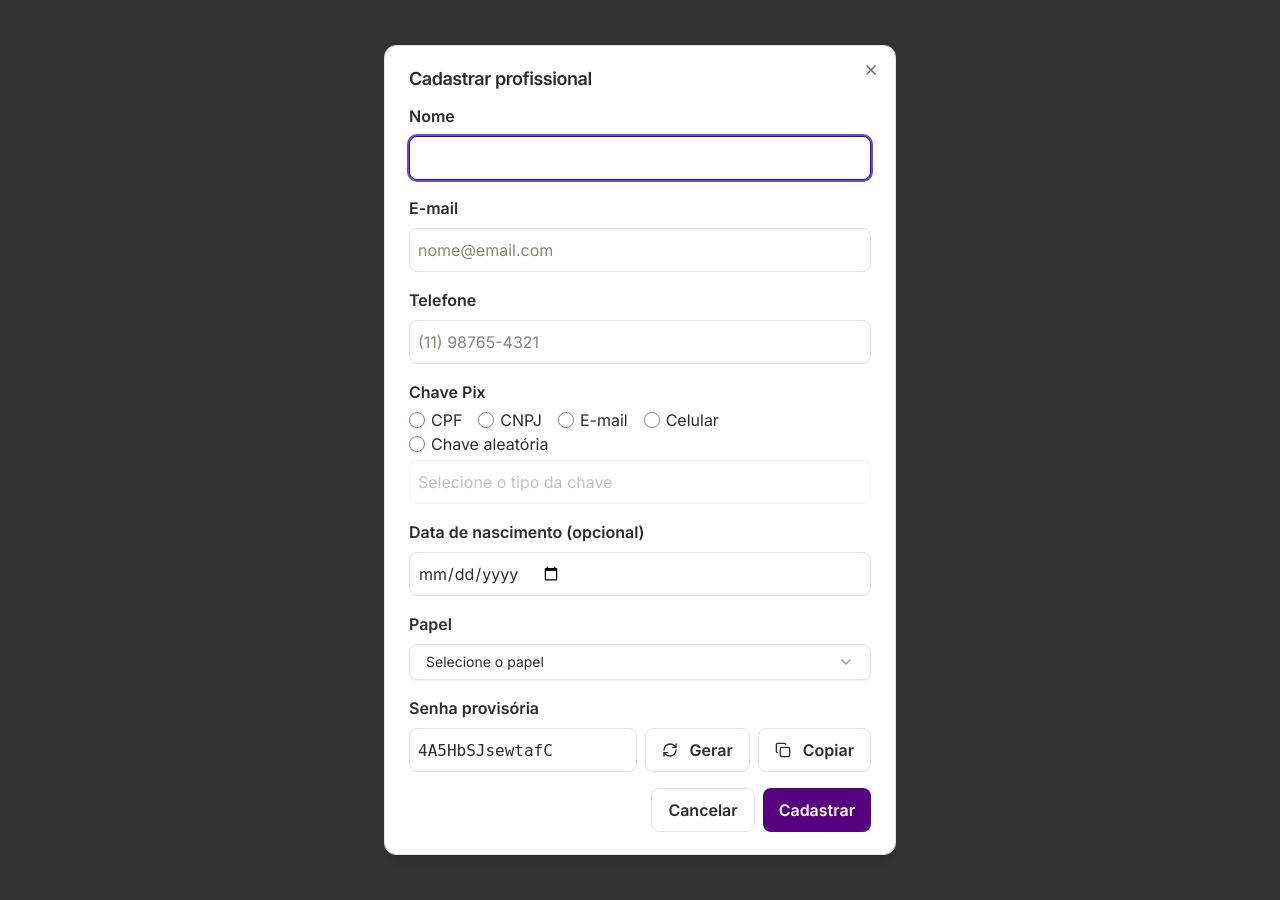
Test: CreateMemberDialog › PROFESSIONAL hides the also-attends checkbox and shows categories; ATTENDANT shows checkbox first
This screenshot has width=1280, height=900.
Click the dropdown labelled "papel" at (485, 662), box x1=409 y1=644 x2=871 y2=680
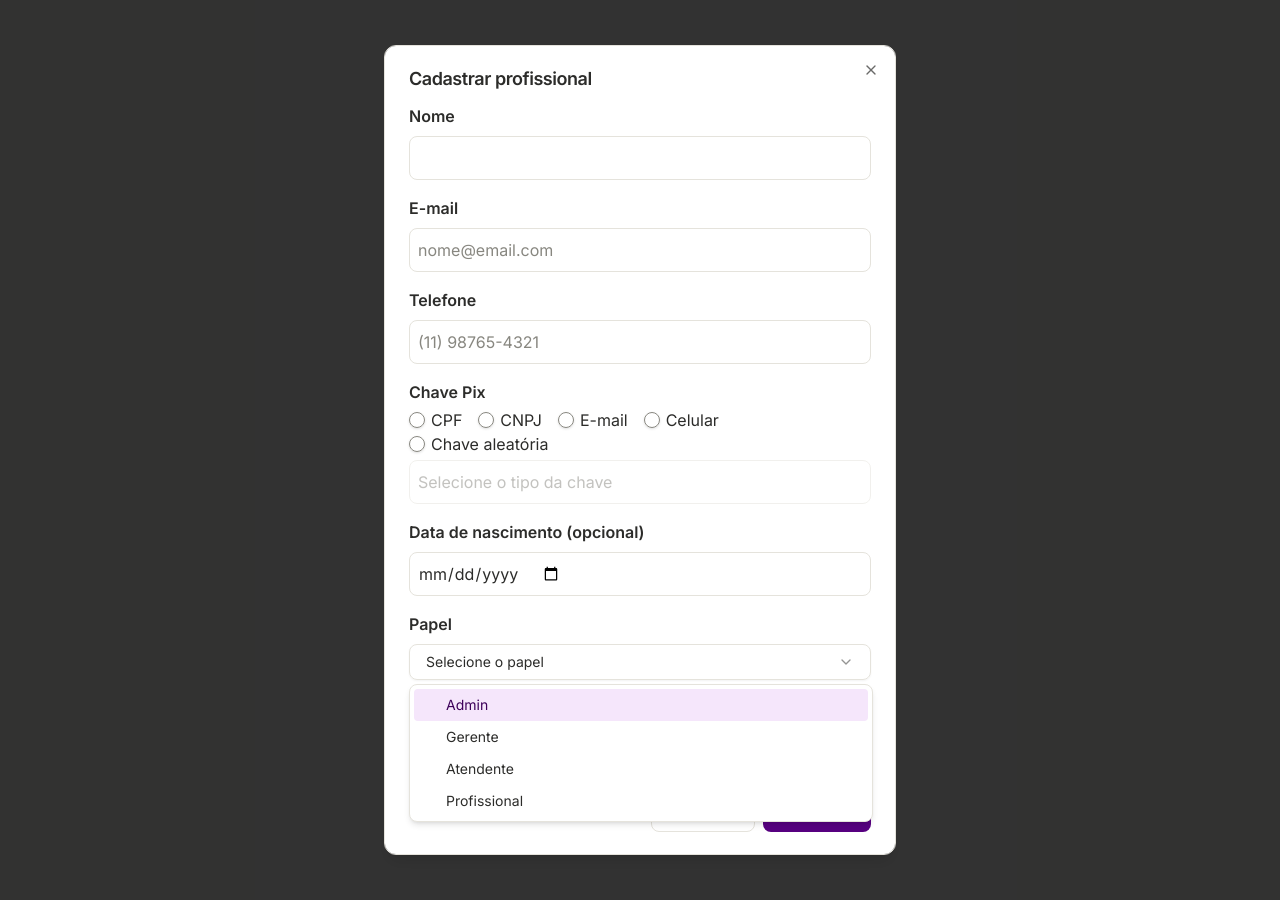
Click the option "Atendente" at (480, 768), box x1=446 y1=760 x2=514 y2=777
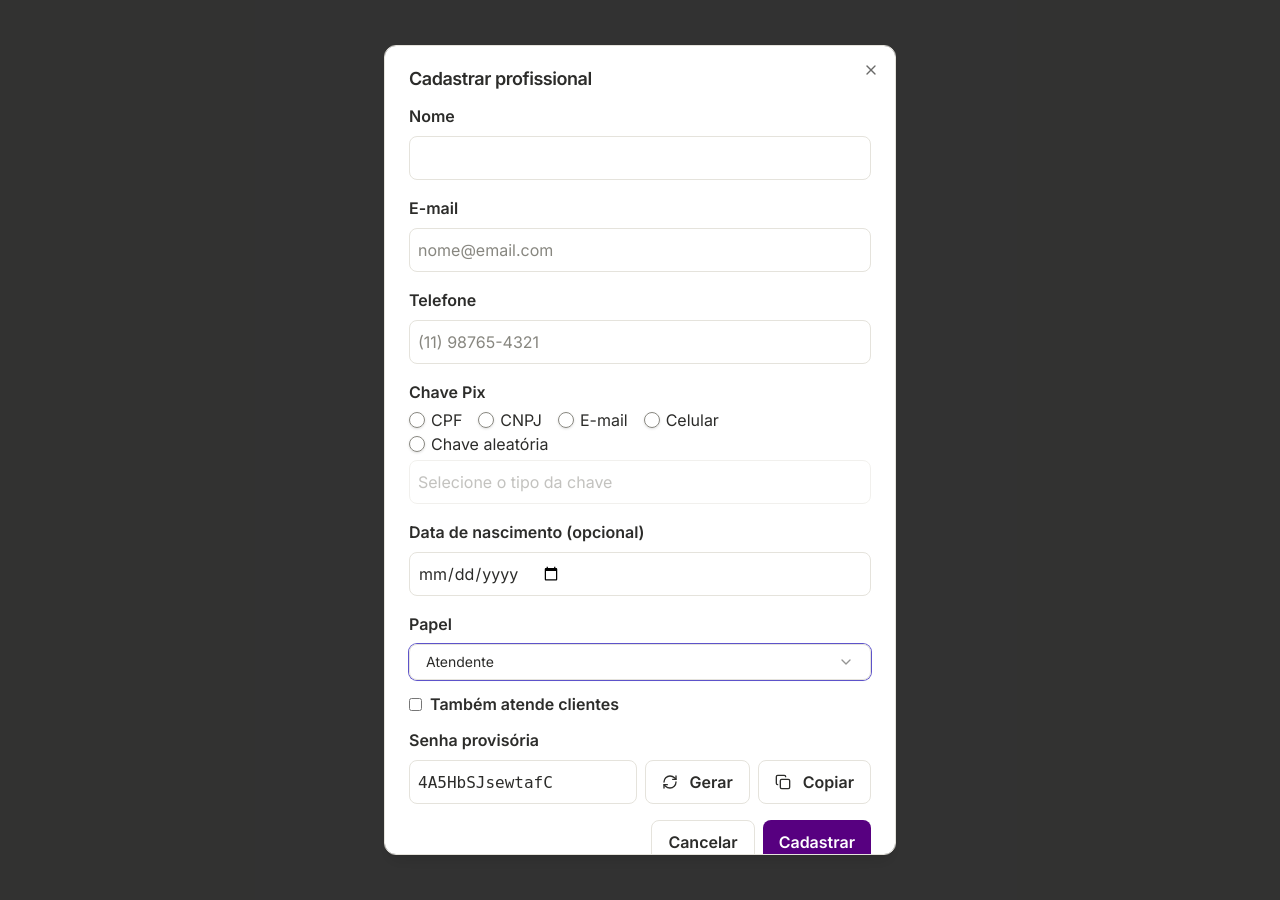
Expected: the text "Categorias atendidas" is not shown
Expected: the checkbox labelled "Também atende clientes" is not checked
Click the checkbox labelled "Também atende clientes" at (416, 704), box x1=409 y1=698 x2=422 y2=710
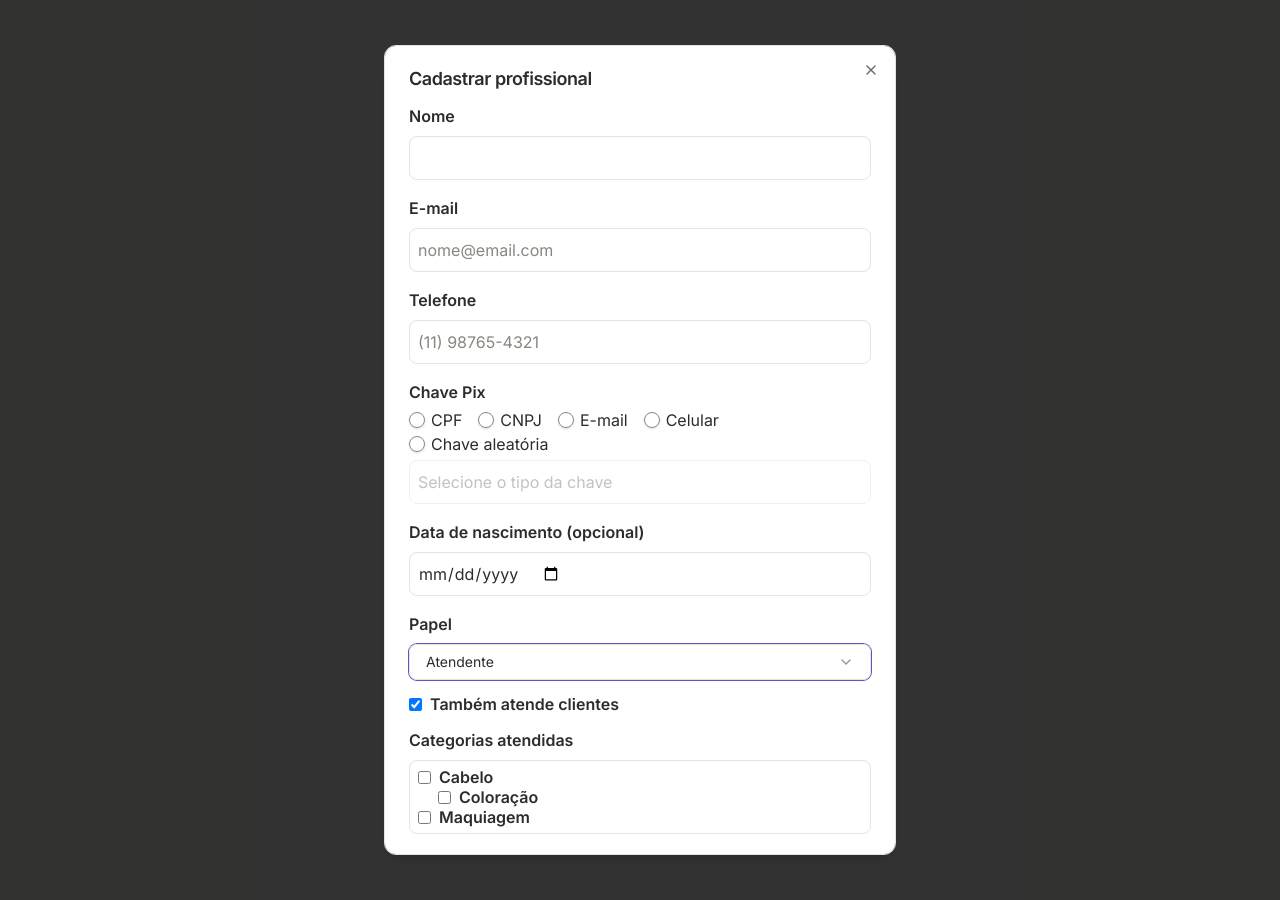
Expected: the checkbox labelled "Cabelo" is shown, x1=418 y1=770 x2=431 y2=784
Click the dropdown named "Papel" at (460, 662), box x1=409 y1=644 x2=871 y2=680
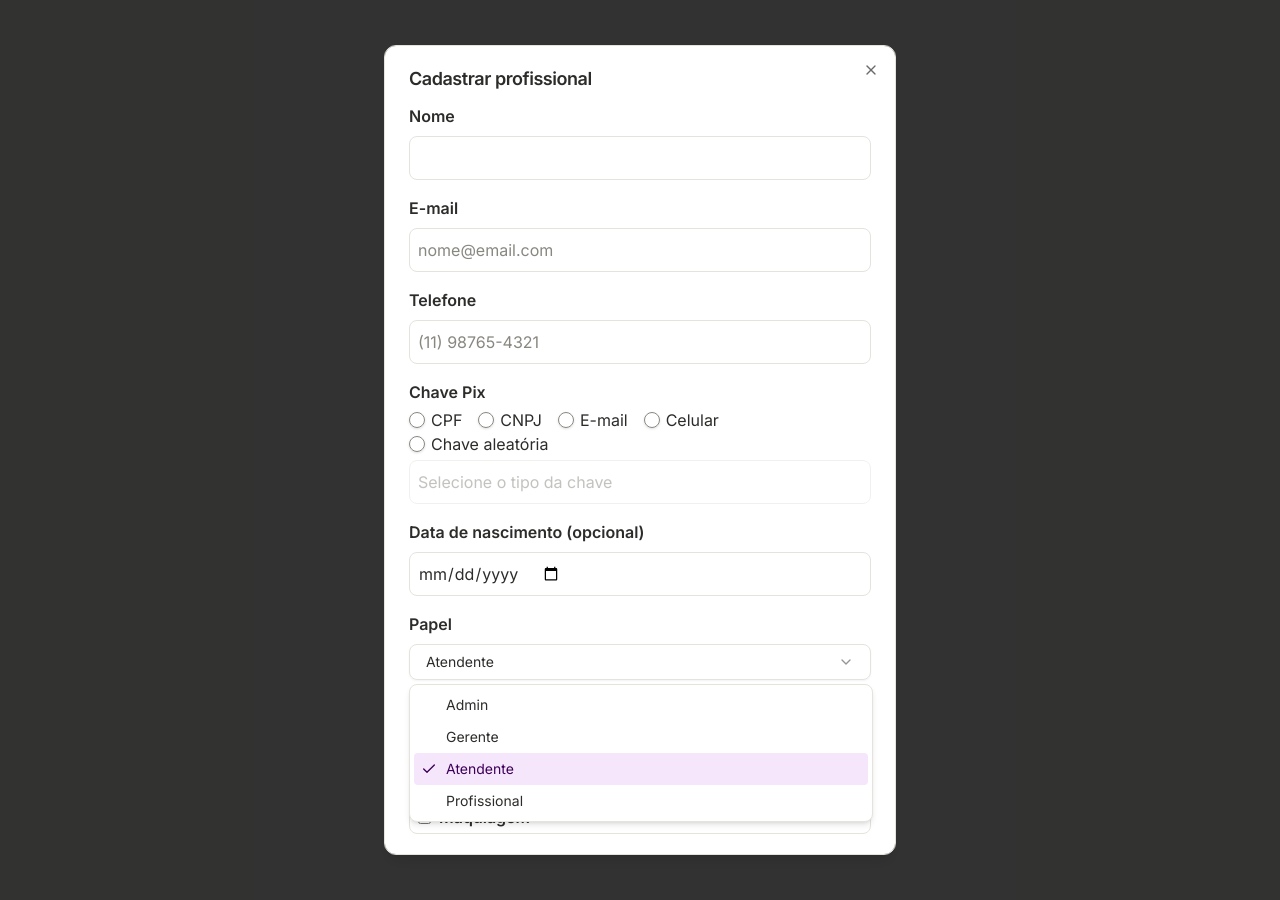
Click the option "Profissional" at (484, 800), box x1=446 y1=792 x2=523 y2=809
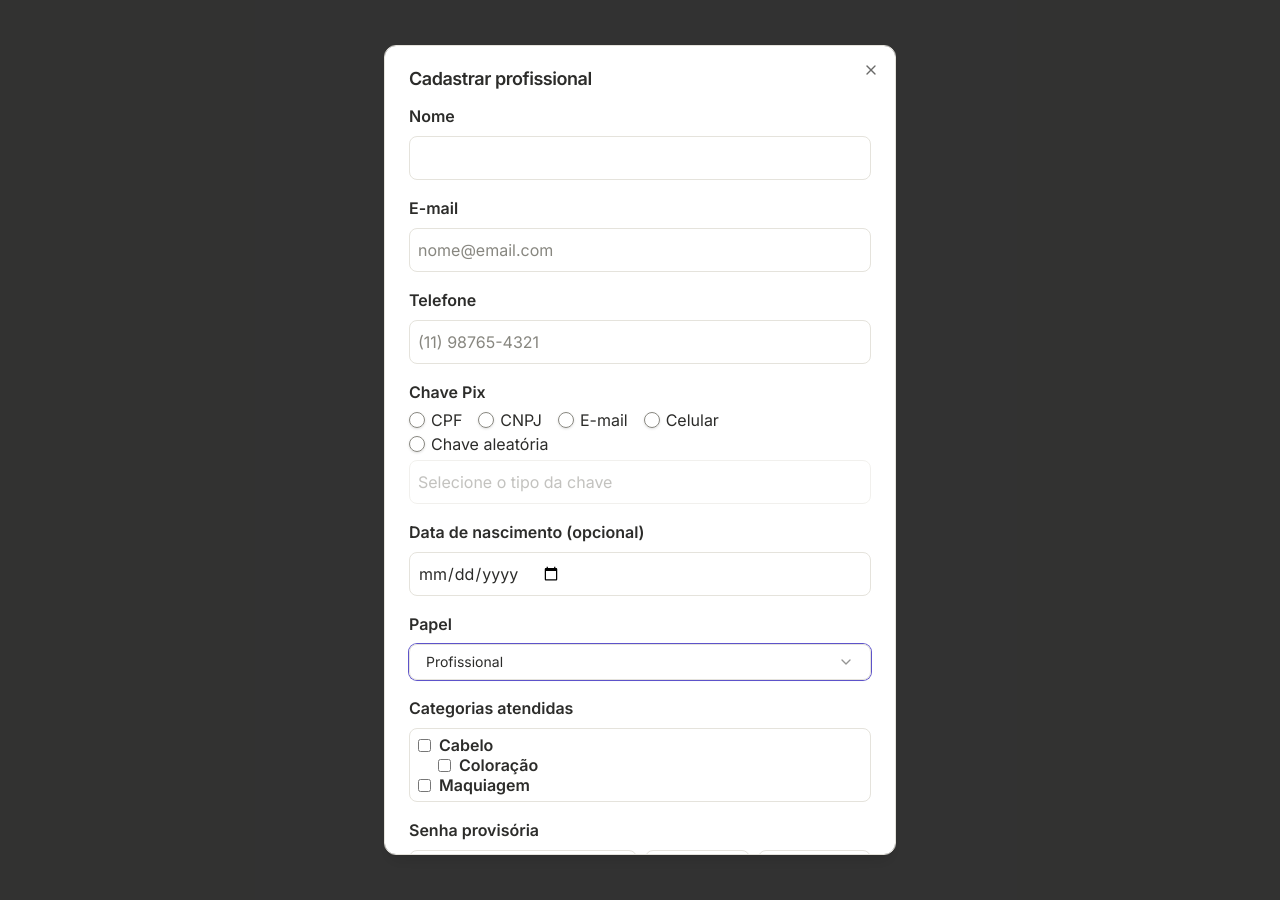
Expected: the checkbox labelled "Cabelo" is shown, x1=418 y1=738 x2=431 y2=752
Expected: the label labelled "Também atende clientes" is gone
